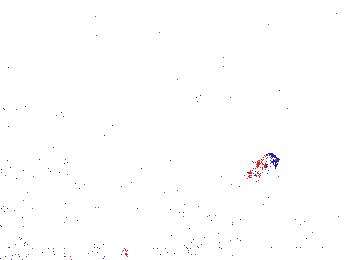X-ray fish: (211, 101, 286, 151), (245, 151, 281, 181)
